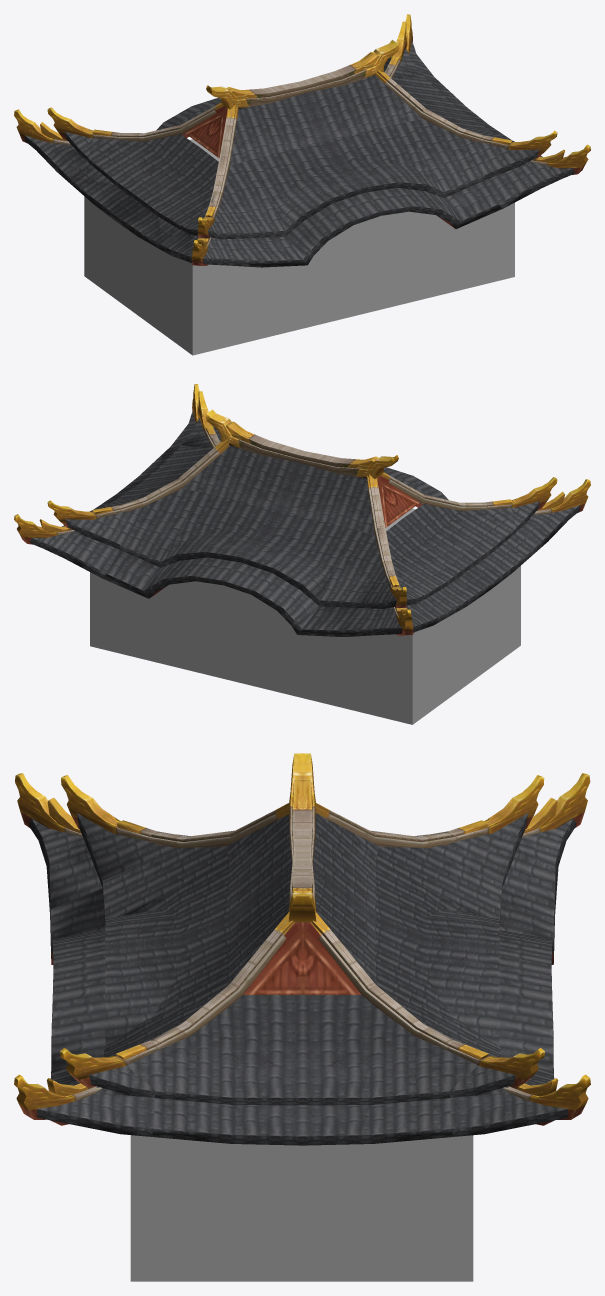
3 renders of one model, top to bottom at view 1: azimuth 30°, elevation 25°; view 2: azimuth 150°, elevation 25°; view 3: azimuth 270°, elevation 25°, orthographic. The views are drawn at different scales.
Visible parts, largest first — view 1: polySurface3017; view 2: polySurface3017; view 3: polySurface3017.
Boxes of the visible parts, x1=… form: polySurface3017: x1=14, y1=14, x2=590, y2=355; polySurface3017: x1=14, y1=384, x2=590, y2=724; polySurface3017: x1=14, y1=753, x2=590, y2=1281.
Bounding box in the file's own units: 16.42 × 8.36 × 13.06.
